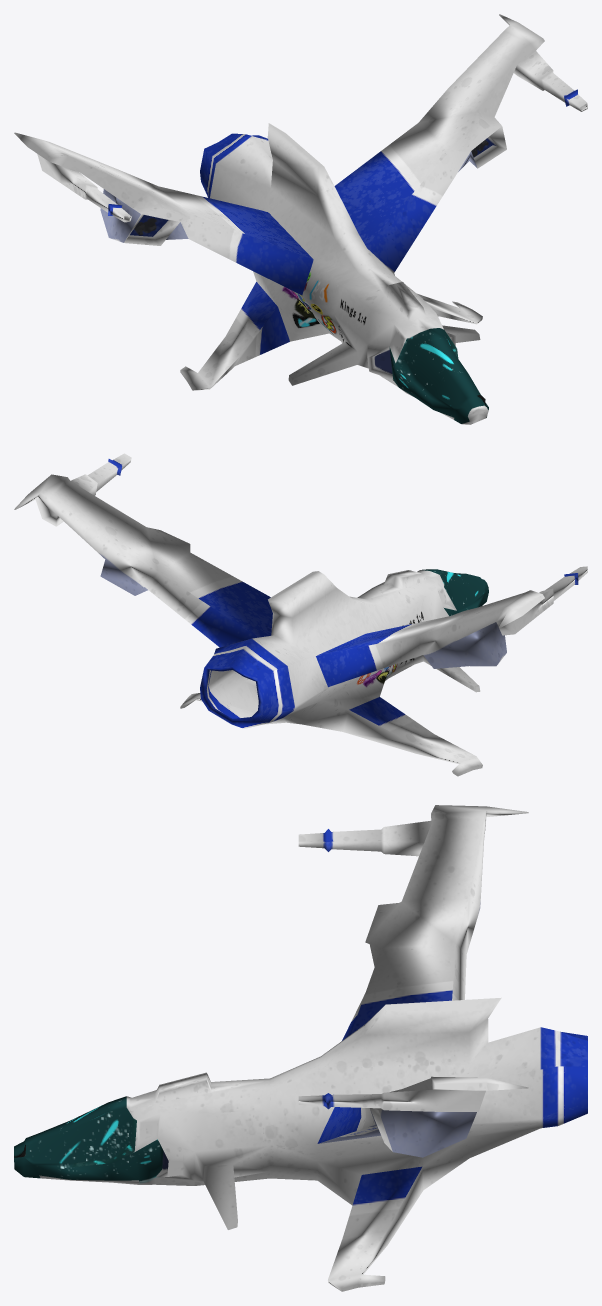
File: FINALPlayerShip-fbx.fbx
The picture shows the model from 3 angles, top to bottom: view 1: azimuth 30°, elevation 25°; view 2: azimuth 150°, elevation 25°; view 3: azimuth 270°, elevation 25°; orthographic projection. The views are drawn at different scales.
Parts seen in each view (by area): view 1: FinalSpaceShip:finalShip; view 2: FinalSpaceShip:finalShip; view 3: FinalSpaceShip:finalShip.
Boxes of the visible parts, left/top/right/bottom form: FinalSpaceShip:finalShip: left=14, top=14, right=587, bottom=424; FinalSpaceShip:finalShip: left=14, top=453, right=587, bottom=776; FinalSpaceShip:finalShip: left=14, top=805, right=587, bottom=1291.
Bounding box in the file's own units: 29.7 × 13.05 × 25.59.
